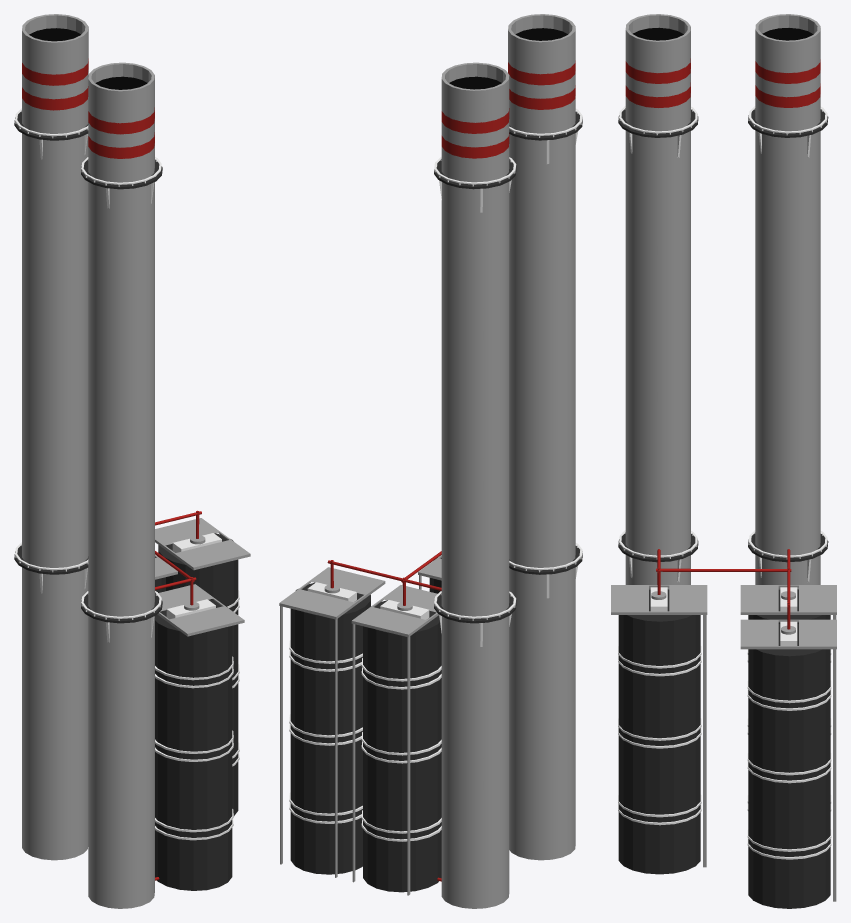
Rendered from Gas Plant 3.FBX.
3 renders of one model, left to right at view 1: azimuth 30°, elevation 25°; view 2: azimuth 150°, elevation 25°; view 3: azimuth 270°, elevation 25°, orthographic. The views are drawn at different scales.
Parts seen in each view (by area): view 1: Cylinder015; view 2: Cylinder015; view 3: Cylinder015.
Boxes of the visible parts, box(x1,y1,x2,y2) form: Cylinder015: box(14, 14, 250, 908); Cylinder015: box(279, 14, 582, 908); Cylinder015: box(611, 14, 836, 908).
Size of the model in its own units: 23.17 by 84.07 by 21.53.
